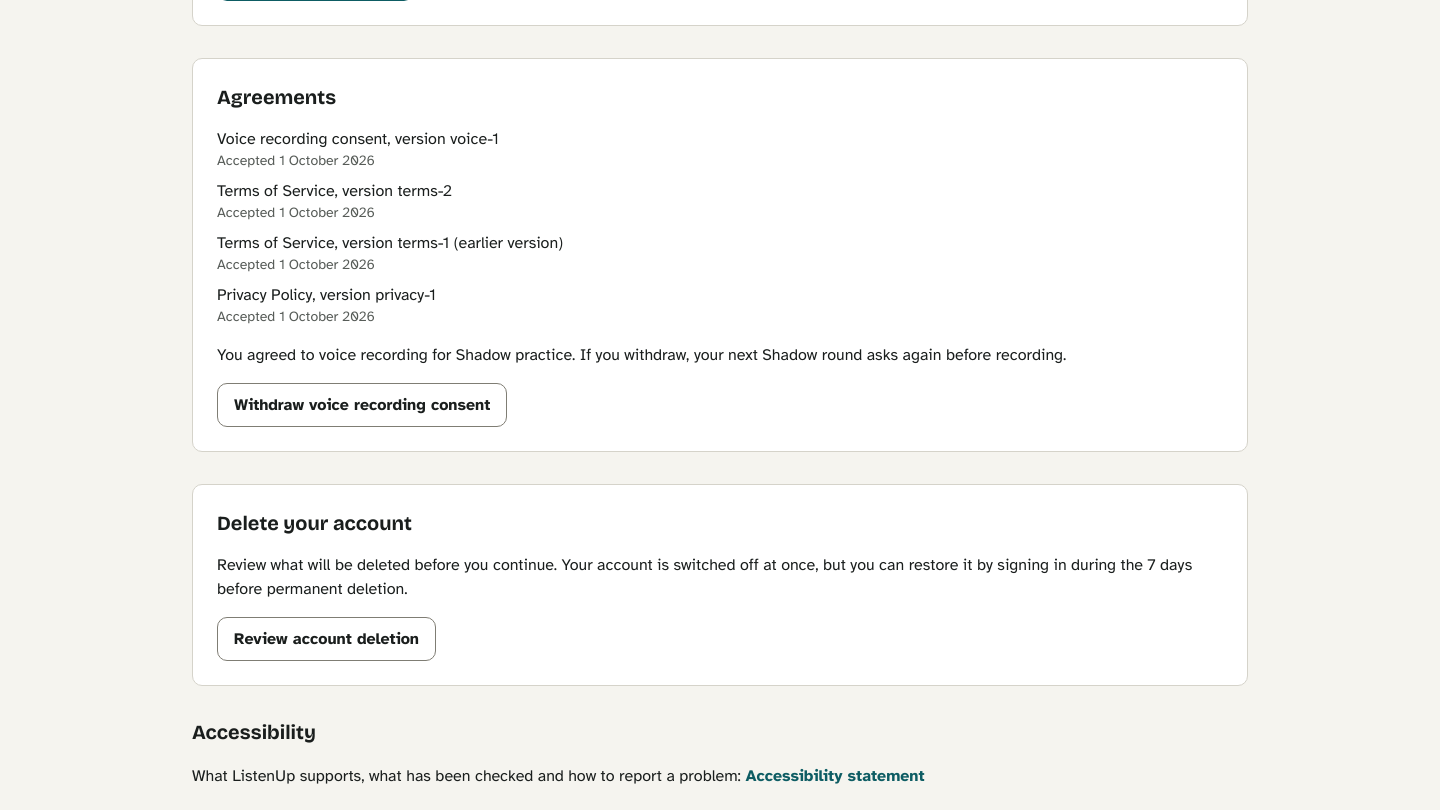
Scenario: cancelling the question withdraws nothing
(page scrolled)
Click the button "Withdraw voice recording consent": (362,405) [217,383,507,427]
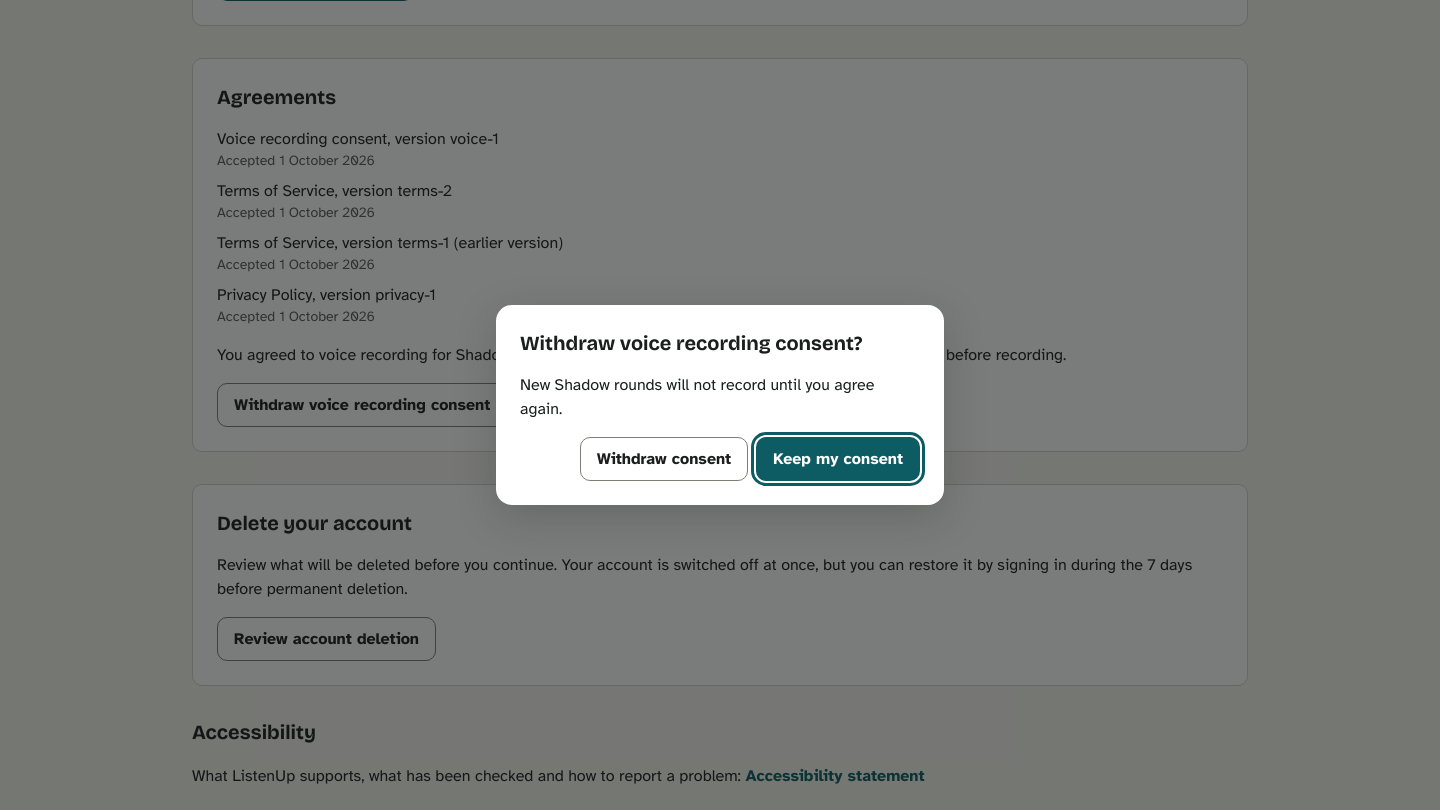
Click the button "Keep my consent": (838,459) [756,437,920,481]
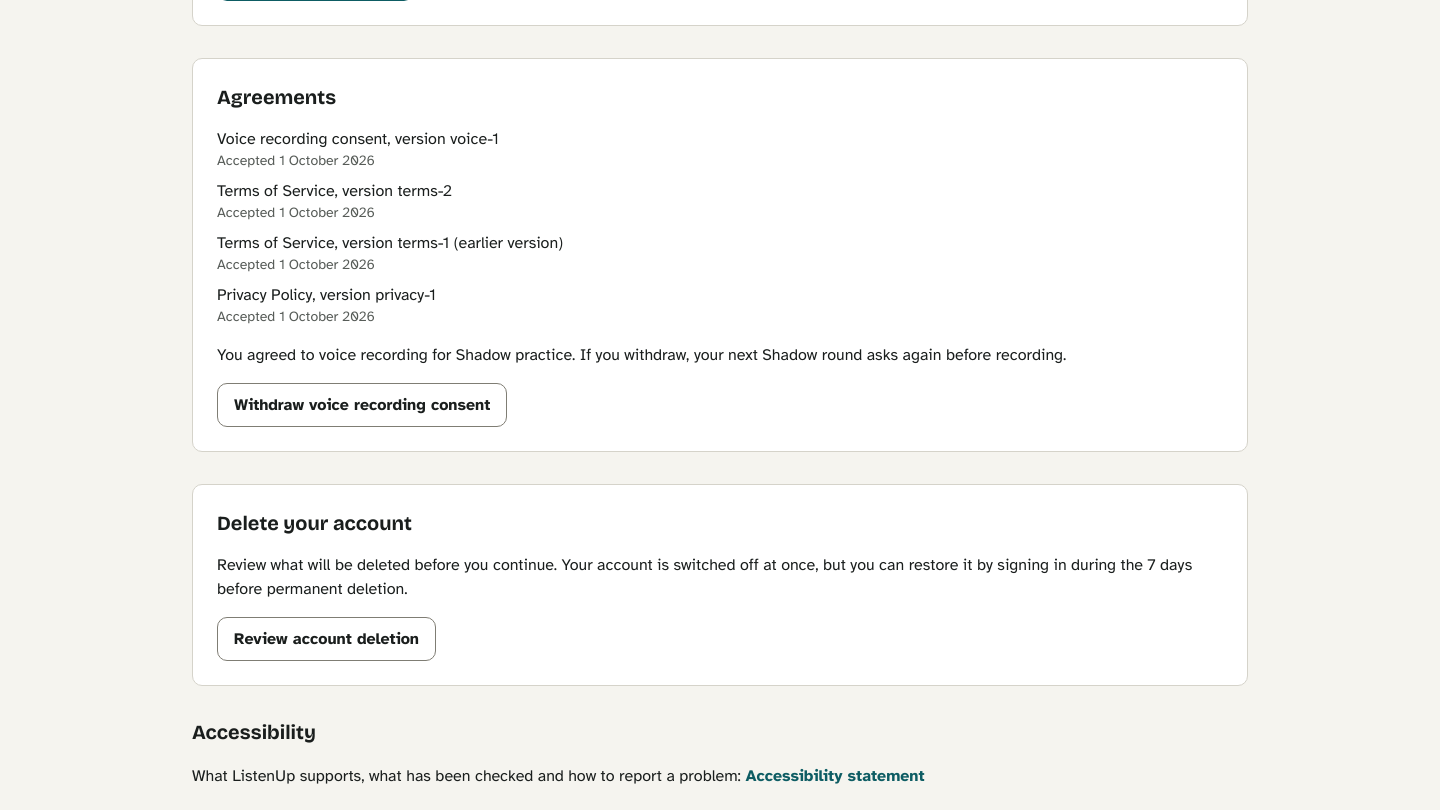
Now the dialog is gone
